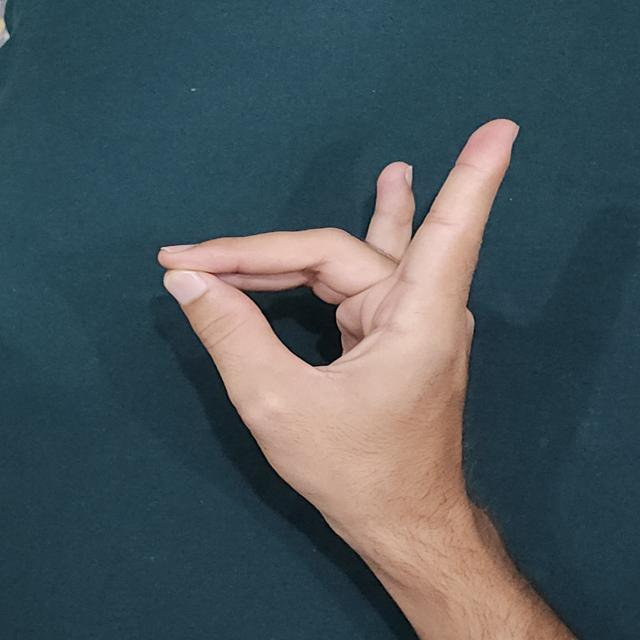پ: (155, 106, 553, 578)
